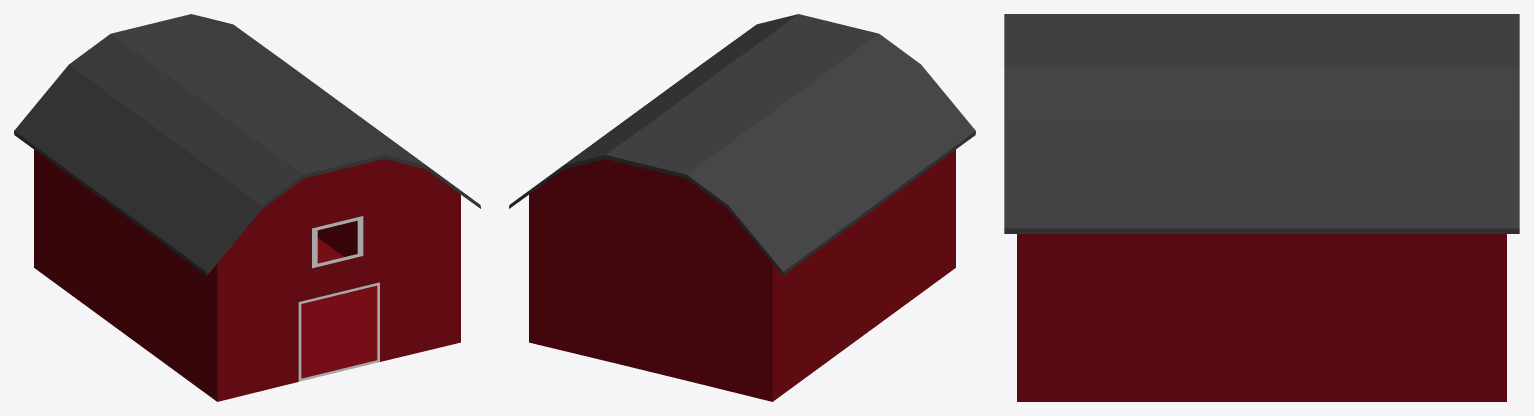
The model's file is lowPoly_barnSmall.fbx.
3 views of the same model, side by side, from view 1: azimuth 30°, elevation 25°; view 2: azimuth 150°, elevation 25°; view 3: azimuth 270°, elevation 25° (orthographic). The views are drawn at different scales.
Visible parts, largest first — view 1: barn; view 2: barn; view 3: barn.
Boxes of the visible parts, left/top/right/bottom form: barn: left=14, top=14, right=480, bottom=401; barn: left=509, top=14, right=975, bottom=401; barn: left=1004, top=14, right=1519, bottom=401.
Size of the model in its own units: 2.99 by 2.2 by 3.64.
